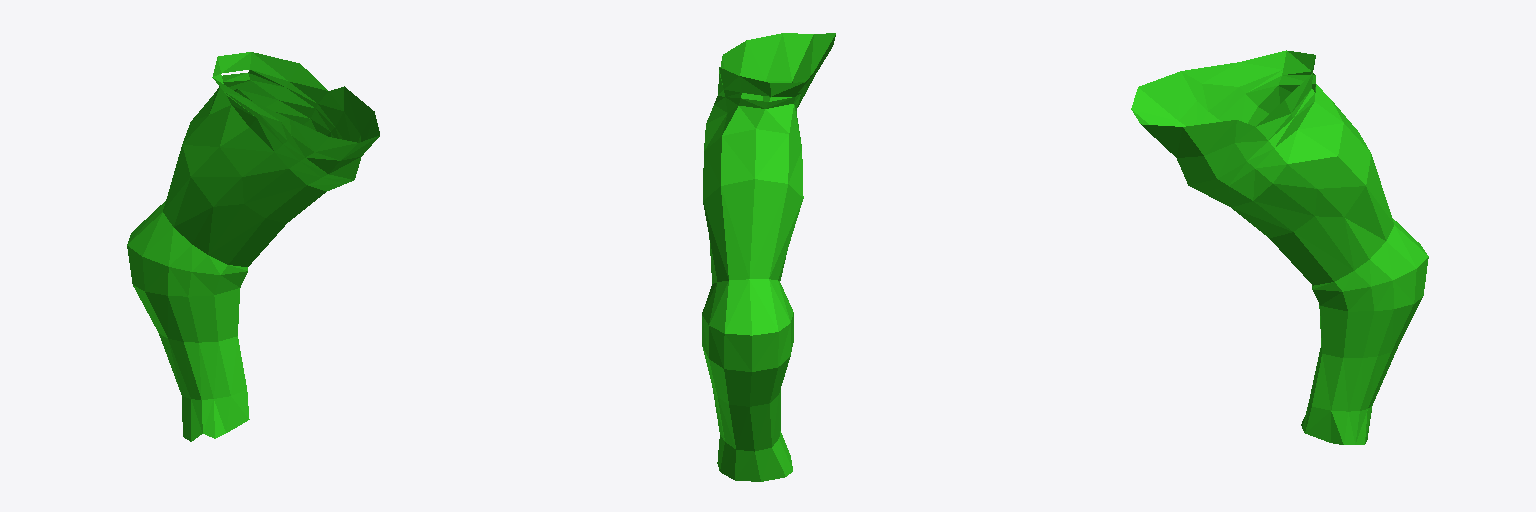
The model's file is tibiadino.obj.
The picture shows the model from 3 angles: view 1: azimuth 30°, elevation 25°; view 2: azimuth 150°, elevation 25°; view 3: azimuth 270°, elevation 25°; orthographic projection.
Visible parts, largest first — view 1: polySurface7 polySurface3; view 2: polySurface7 polySurface3; view 3: polySurface7 polySurface3.
Part boxes in pixels (bbox=[...]): polySurface7 polySurface3: bbox=[127, 52, 379, 441]; polySurface7 polySurface3: bbox=[702, 33, 835, 481]; polySurface7 polySurface3: bbox=[1131, 50, 1428, 444].
Size of the model in its own units: 0.1957 by 0.5117 by 0.3608.